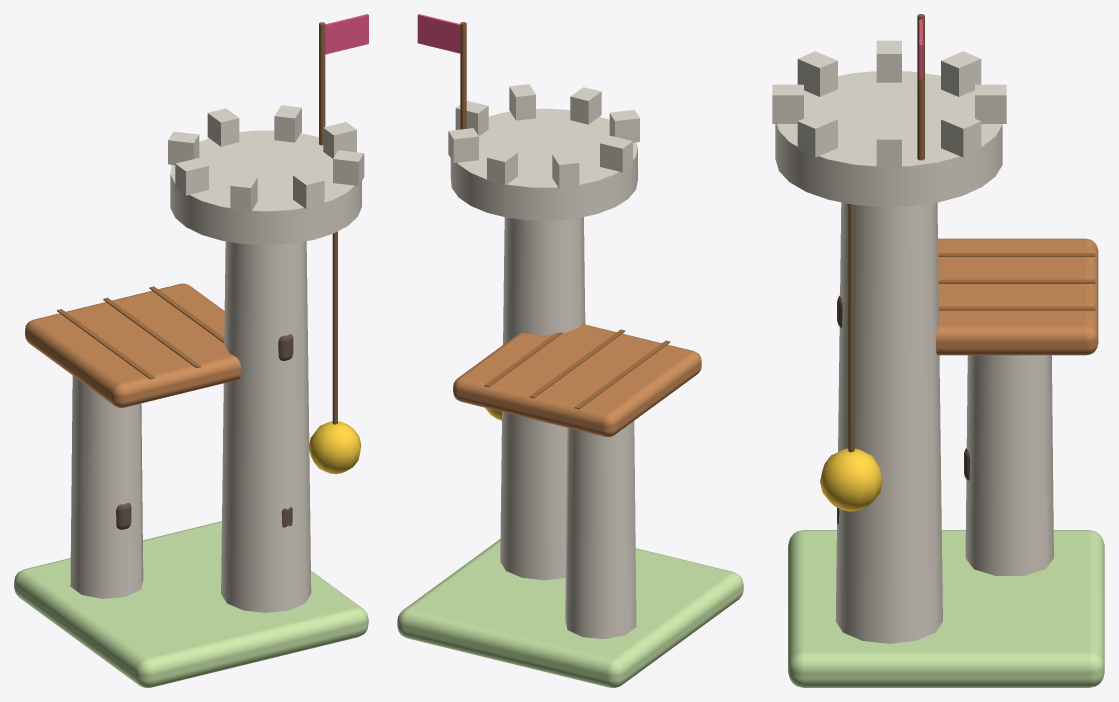
File: cattree-castle.glb
The picture shows the model from 3 angles, left to right: view 1: azimuth 30°, elevation 25°; view 2: azimuth 150°, elevation 25°; view 3: azimuth 270°, elevation 25°; orthographic projection. The views are drawn at different scales.
Size of the model in its own units: 1.22 by 2.37 by 1.05.
